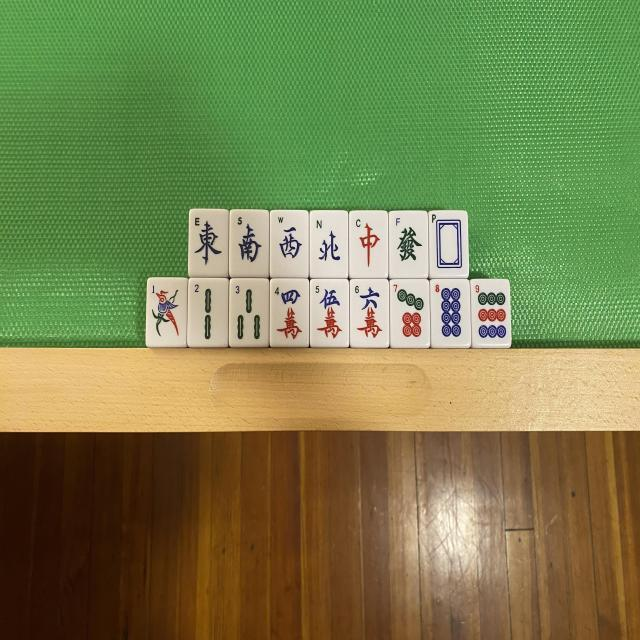hdg: (390, 212, 428, 278)
hdr: (350, 211, 388, 278)
hdw: (429, 212, 467, 278)
hwe: (189, 210, 228, 276)
hwn: (310, 212, 348, 278)
hws: (230, 211, 268, 277)
hww: (270, 211, 308, 277)
sb1: (147, 278, 186, 346)
sb2: (186, 278, 228, 346)
sb3: (229, 278, 269, 346)
sd4: (270, 280, 308, 348)
sd5: (310, 280, 349, 346)
sd6: (349, 280, 388, 347)
sd7: (390, 280, 430, 348)
sd8: (430, 280, 470, 348)
sd9: (472, 279, 509, 347)
